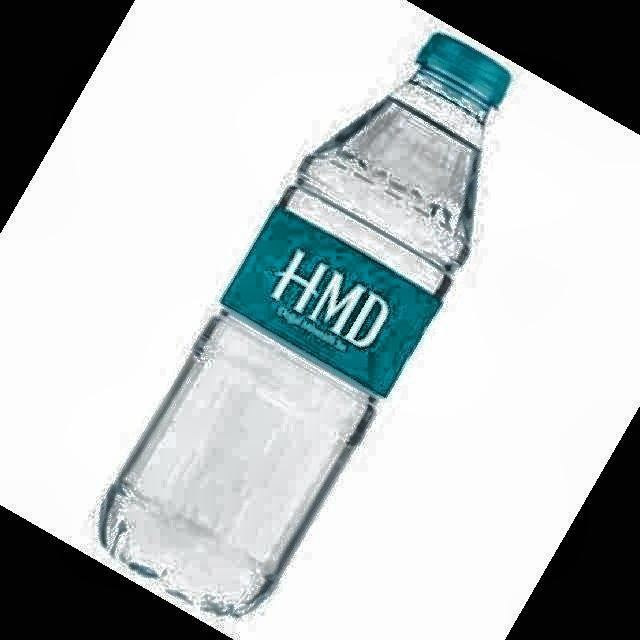plastic: (100, 34, 510, 616)
